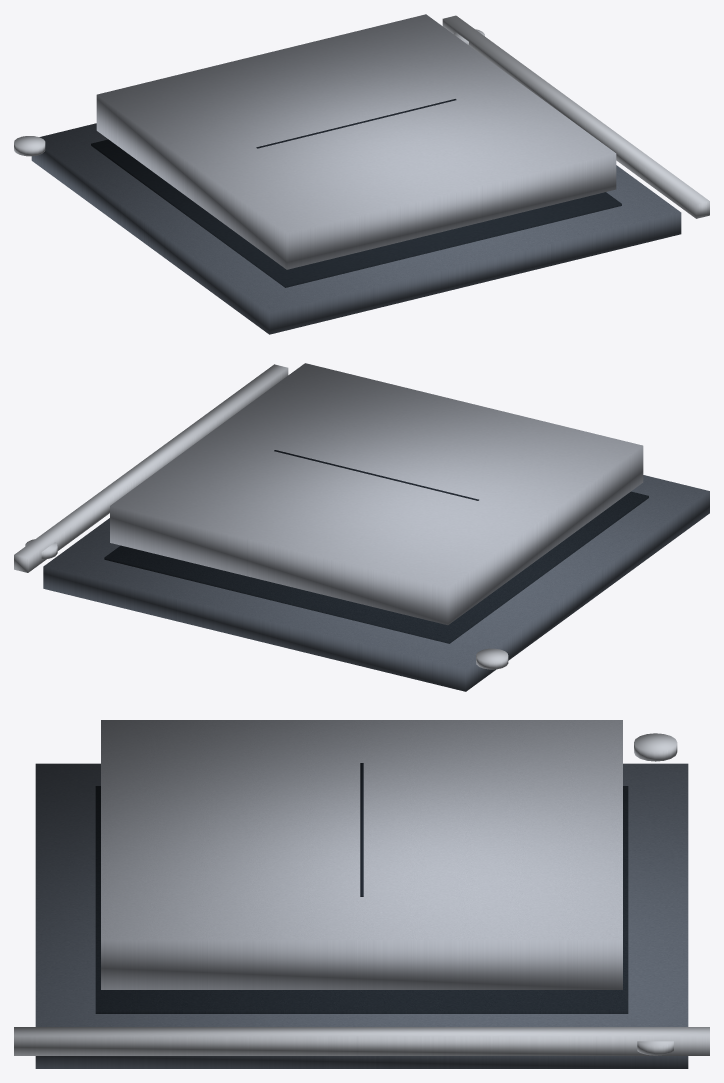
The model's file is 102_L103_CPU_Socket_And_Load.obj.
3 views of the same model, one above another, from view 1: azimuth 30°, elevation 25°; view 2: azimuth 150°, elevation 25°; view 3: azimuth 270°, elevation 25° (orthographic). The views are drawn at different scales.
Parts seen in each view (by area): view 1: CPU_HeatSpreader__PSMAT__Cap_Aluminum, SocketFrame__PSMAT__Plastic_Grey, SocketInner__PSMAT__Plastic_Black, RetentionBar__PSMAT__Connector_Metal, FrameFastener__PSMAT__Connector_Metal; view 2: CPU_HeatSpreader__PSMAT__Cap_Aluminum, SocketFrame__PSMAT__Plastic_Grey, SocketInner__PSMAT__Plastic_Black, RetentionBar__PSMAT__Connector_Metal, FrameFastener__PSMAT__Connector_Metal; view 3: CPU_HeatSpreader__PSMAT__Cap_Aluminum, SocketFrame__PSMAT__Plastic_Grey, RetentionBar__PSMAT__Connector_Metal, SocketInner__PSMAT__Plastic_Black, FrameFastener__PSMAT__Connector_Metal.
Part boxes in pixels (x1,y1,x2,y2): CPU_HeatSpreader__PSMAT__Cap_Aluminum: [96, 14, 616, 269]; SocketFrame__PSMAT__Plastic_Grey: [31, 123, 681, 334]; SocketInner__PSMAT__Plastic_Black: [91, 139, 621, 287]; RetentionBar__PSMAT__Connector_Metal: [442, 15, 709, 218]; FrameFastener__PSMAT__Connector_Metal: [14, 136, 45, 156]; CPU_HeatSpreader__PSMAT__Cap_Aluminum: [110, 363, 643, 625]; SocketFrame__PSMAT__Plastic_Grey: [43, 475, 709, 691]; SocketInner__PSMAT__Plastic_Black: [104, 491, 648, 643]; RetentionBar__PSMAT__Connector_Metal: [14, 364, 288, 572]; FrameFastener__PSMAT__Connector_Metal: [476, 648, 508, 669]; CPU_HeatSpreader__PSMAT__Cap_Aluminum: [101, 720, 622, 989]; SocketFrame__PSMAT__Plastic_Grey: [35, 763, 688, 1068]; RetentionBar__PSMAT__Connector_Metal: [14, 1027, 709, 1055]; SocketInner__PSMAT__Plastic_Black: [95, 786, 628, 1013]; FrameFastener__PSMAT__Connector_Metal: [634, 733, 677, 761].
Bounding box in the file's own units: 0.068 × 0.0103 × 0.064.
